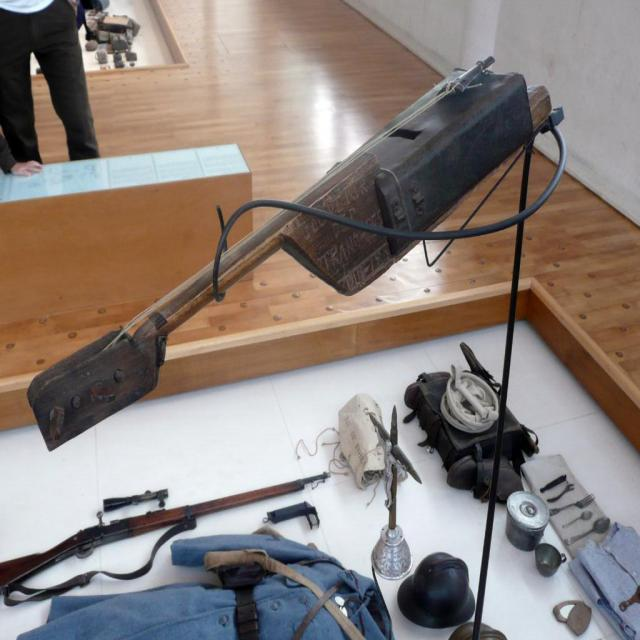weapon: (0, 472, 330, 606)
